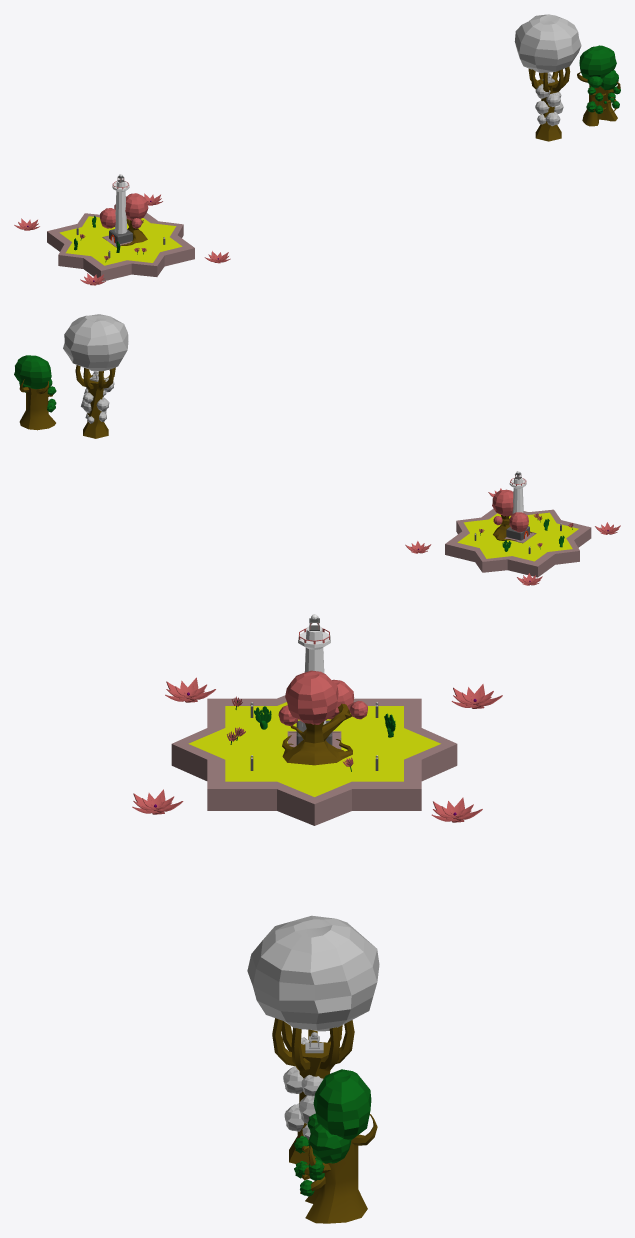
Rendered from Ilha final.fbx.
3 renders of one model, top to bottom at view 1: azimuth 30°, elevation 25°; view 2: azimuth 150°, elevation 25°; view 3: azimuth 270°, elevation 25°, orthographic. The views are drawn at different scales.
Parts seen in each view (by area): view 1: polySurface592, pSphere19, pCylinder27, pCylinder15; view 2: polySurface592, pSphere19, pCylinder27, pCylinder15; view 3: polySurface592, pSphere19, pCylinder27, pCylinder15.
Boxes of the visible parts, x1,y1,x2,y2 form: polySurface592: [47, 176, 194, 281]; pSphere19: [514, 14, 581, 72]; pCylinder27: [577, 45, 620, 126]; pCylinder15: [535, 77, 561, 141]; polySurface592: [445, 472, 591, 577]; pSphere19: [63, 314, 128, 371]; pCylinder27: [14, 355, 56, 430]; pCylinder15: [83, 375, 108, 438]; polySurface592: [171, 617, 457, 825]; pSphere19: [247, 915, 379, 1031]; pCylinder27: [294, 1069, 377, 1223]; pCylinder15: [289, 1041, 330, 1165].
Size of the model in its own units: 731 by 156 by 208.
